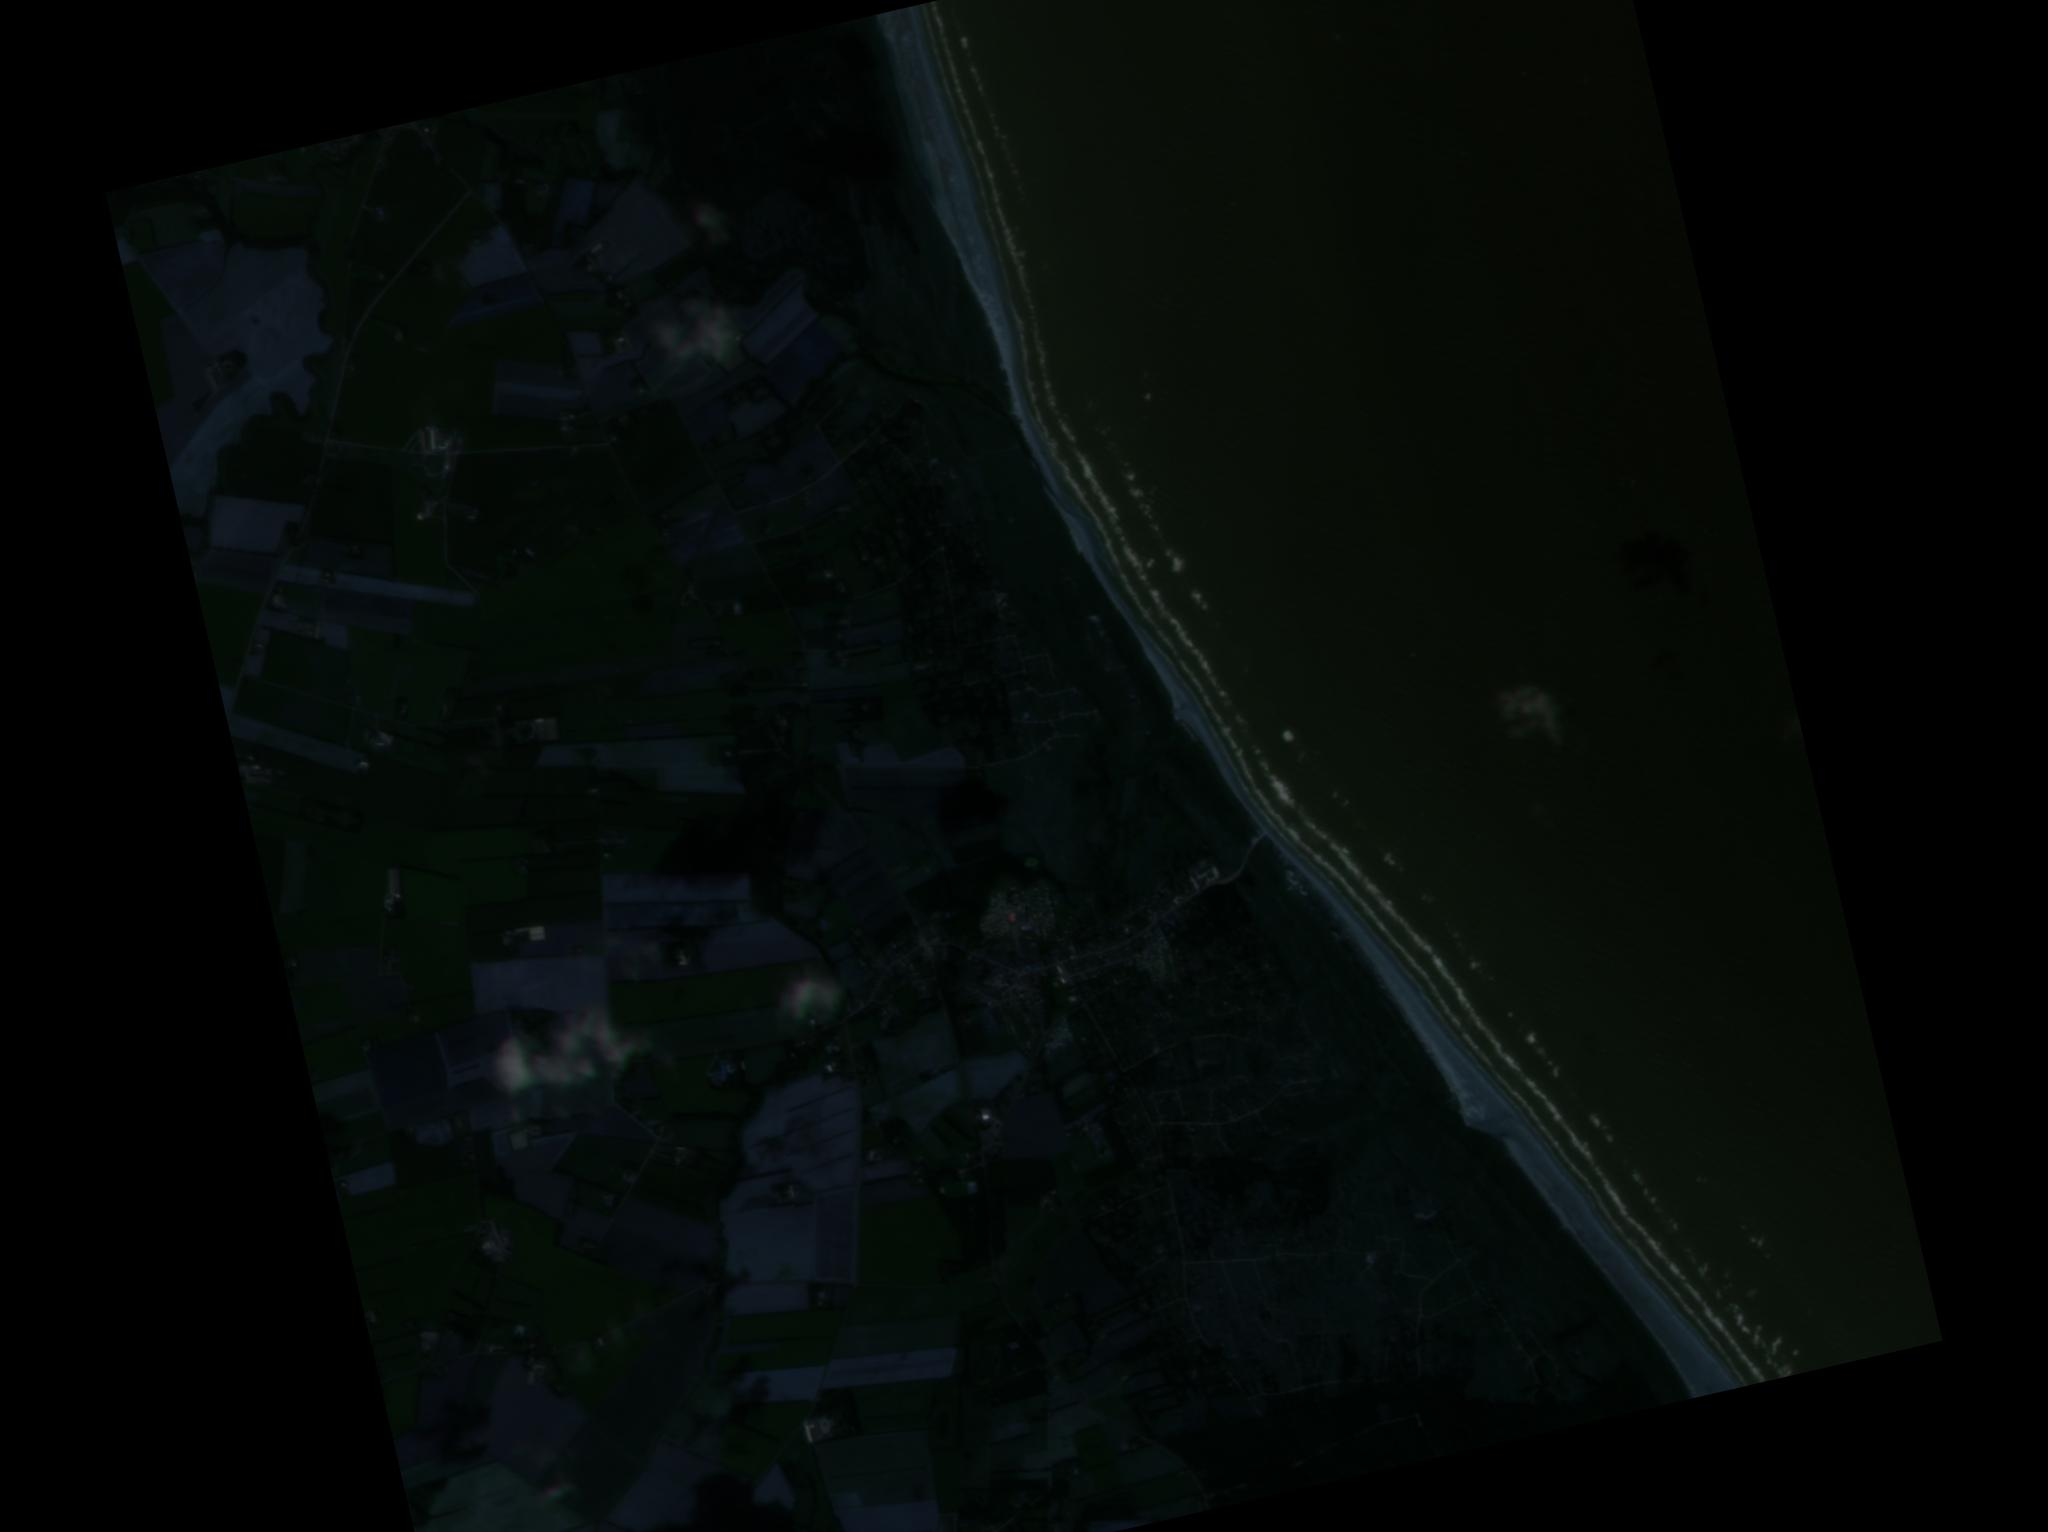ship: (1491, 674, 1573, 756)
